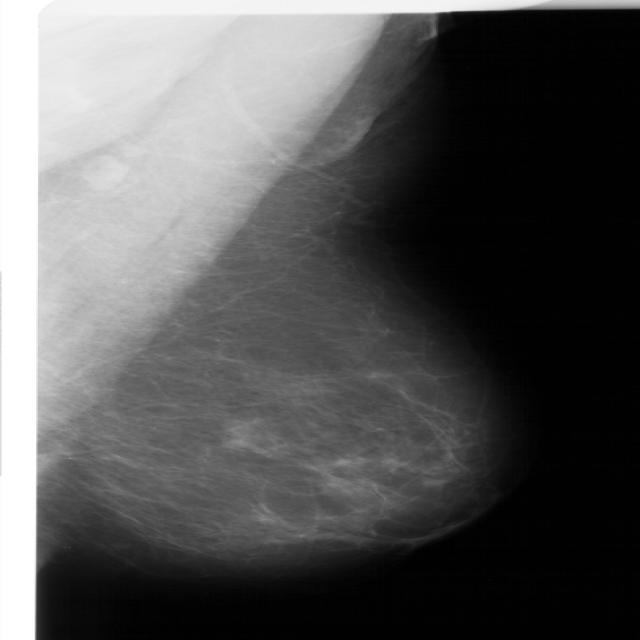tumour: (223, 419, 254, 444)
